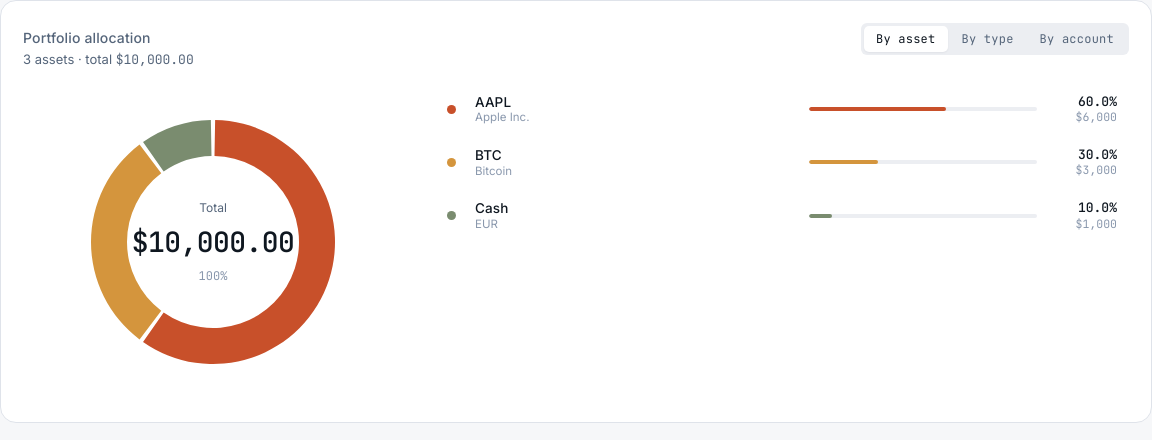
AllocationsPage — view toggle › clicking By account re-fetches with group=account
Click the button "By account" at point(1077, 39), box 1028,26 -> 1126,52
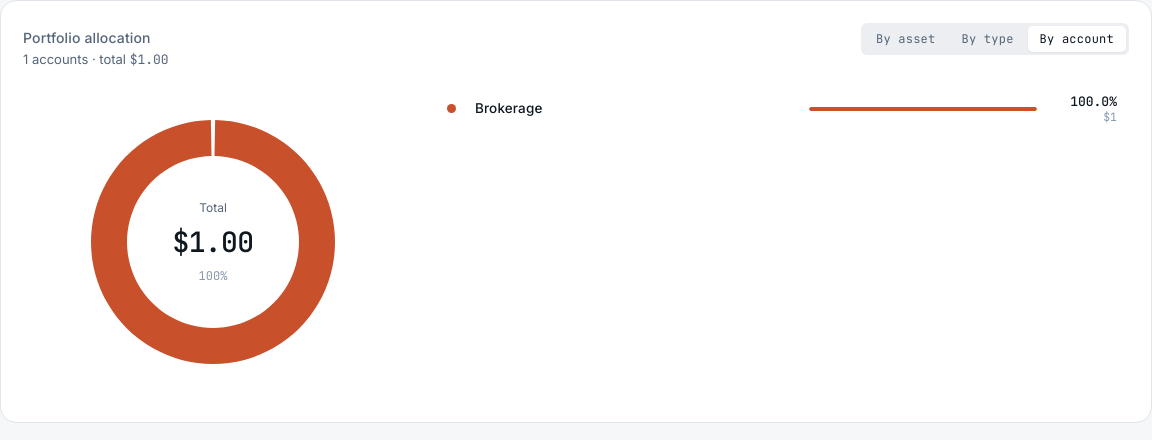
Expected: the text "1 accounts · total $1.00" is shown, 23,50 -> 169,70
